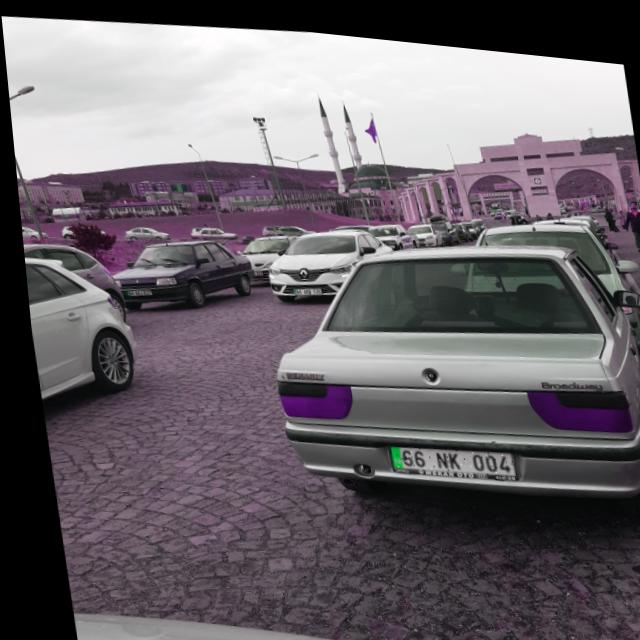license_plate: (383, 433, 508, 472), (289, 280, 317, 291)
